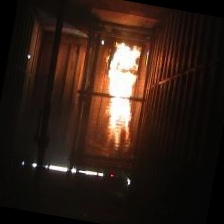fire: (93, 37, 148, 157)
